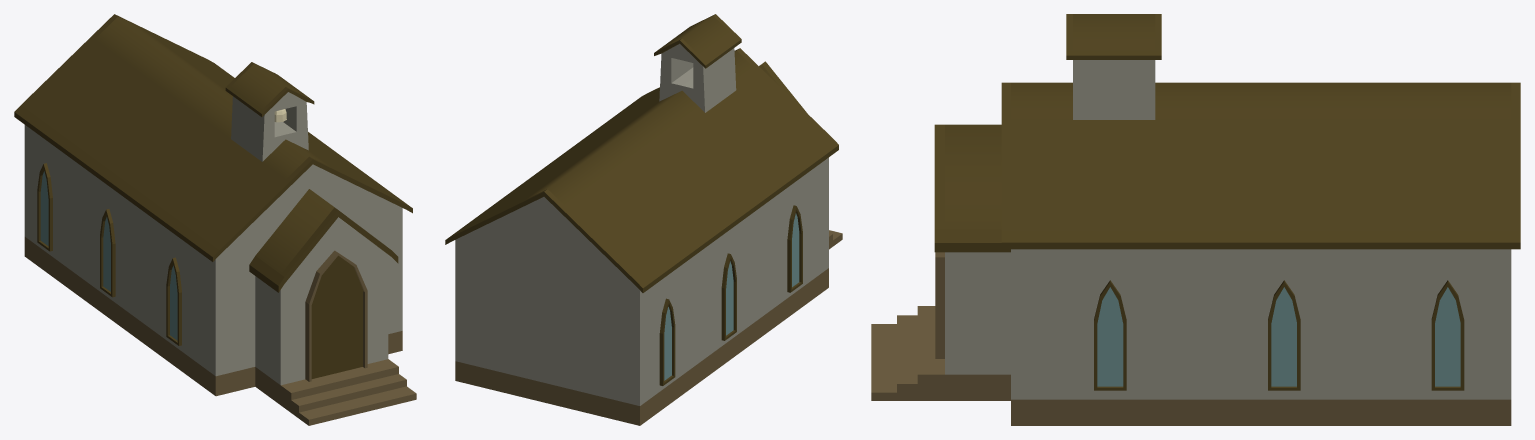
The model's file is Building_06.fbx.
The picture shows the model from 3 angles, left to right: view 1: azimuth 30°, elevation 25°; view 2: azimuth 150°, elevation 25°; view 3: azimuth 270°, elevation 25°; orthographic projection. The views are drawn at different scales.
Parts seen in each view (by area): view 1: pCylinder8; view 2: pCylinder8; view 3: pCylinder8.
Boxes of the visible parts, x1,y1,x2,y2 form: pCylinder8: (14,14,416,425); pCylinder8: (445,14,842,425); pCylinder8: (871,14,1520,425).
Bounding box in the file's own units: 376 × 484 × 807.
